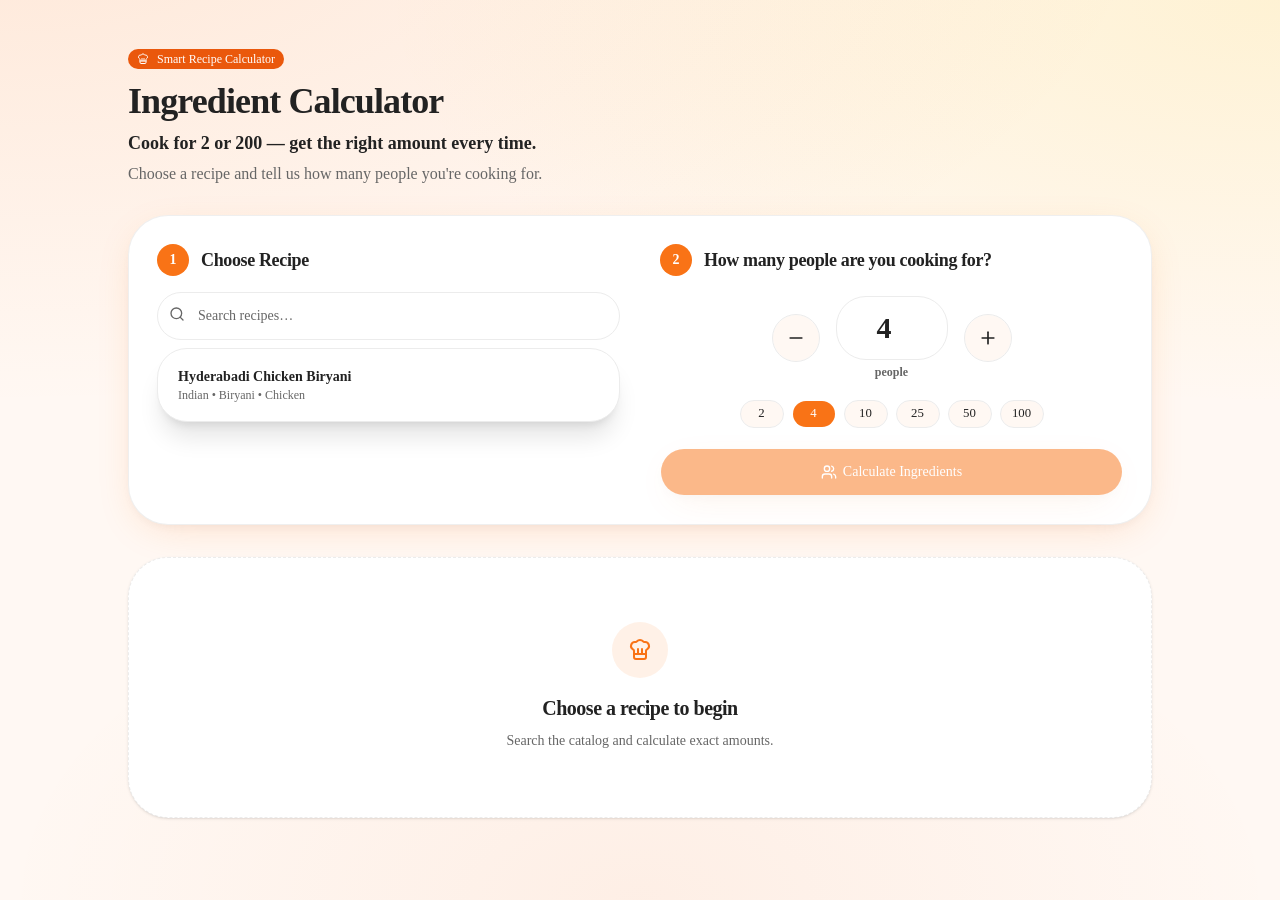
it: Calculate page › shows a user-facing error when calculation fails
The image size is (1280, 900).
What coordinates should you click on to do the following:
click the option "Hyderabadi Chicken Biryani Indian • Biryani • Chicken"
I would click on:
 (265, 376)
Its box is [166, 357, 611, 413].
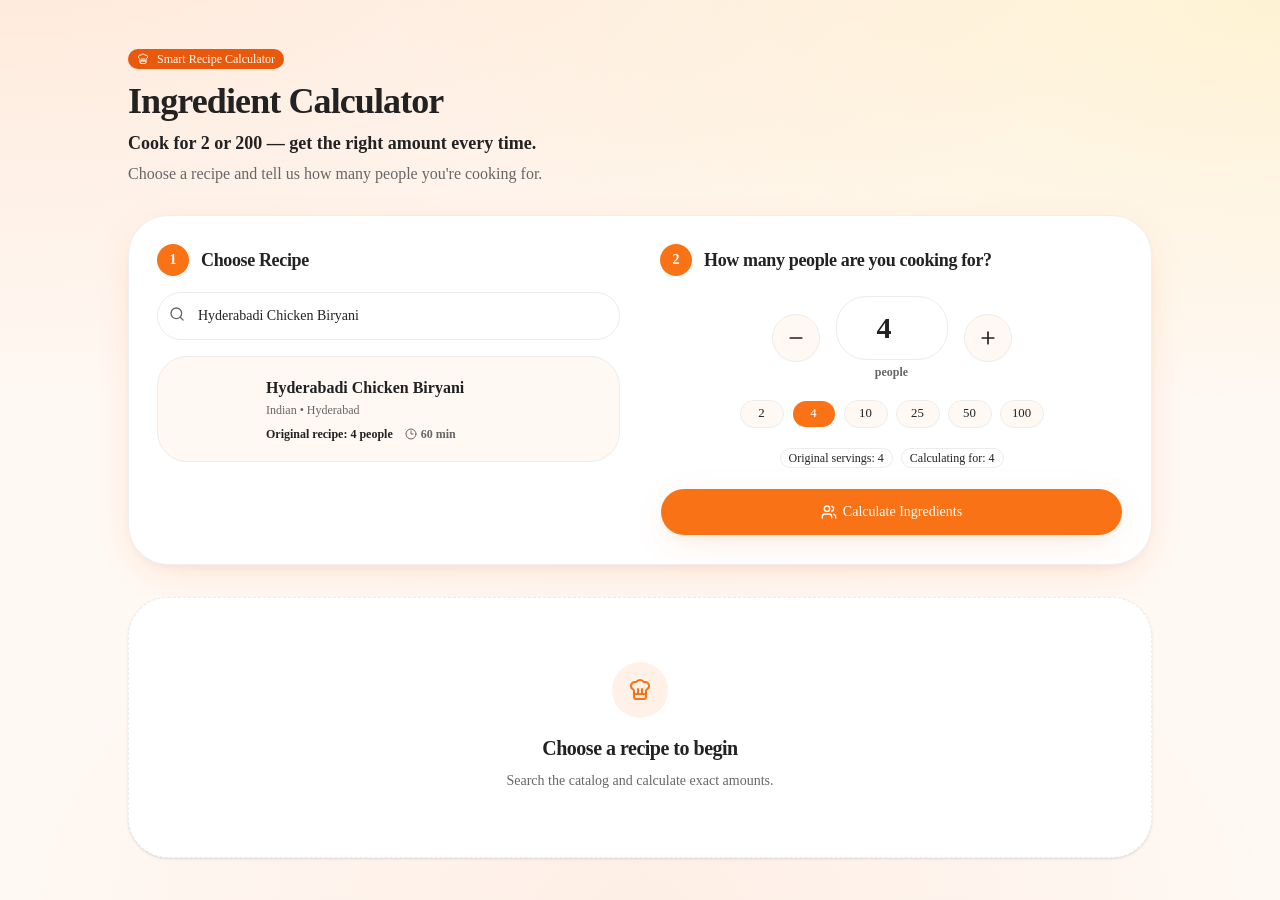
What coordinates should you click on to do the following:
click the button "Calculate Ingredients"
I would click on:
 (892, 512)
Its box is [660, 488, 1123, 536].
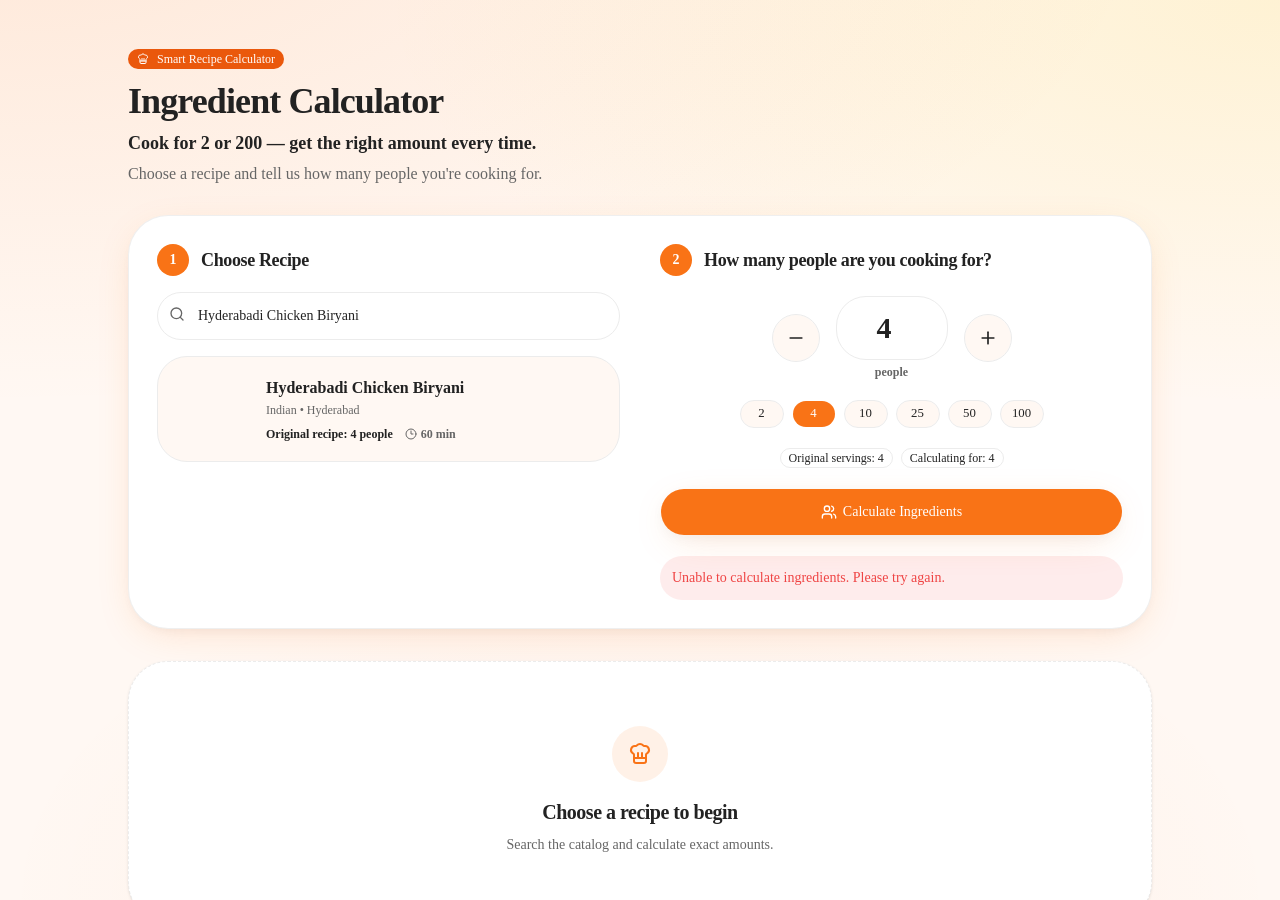
Check: the message shows "Unable to calculate ingredients", box [672, 570, 945, 585]
